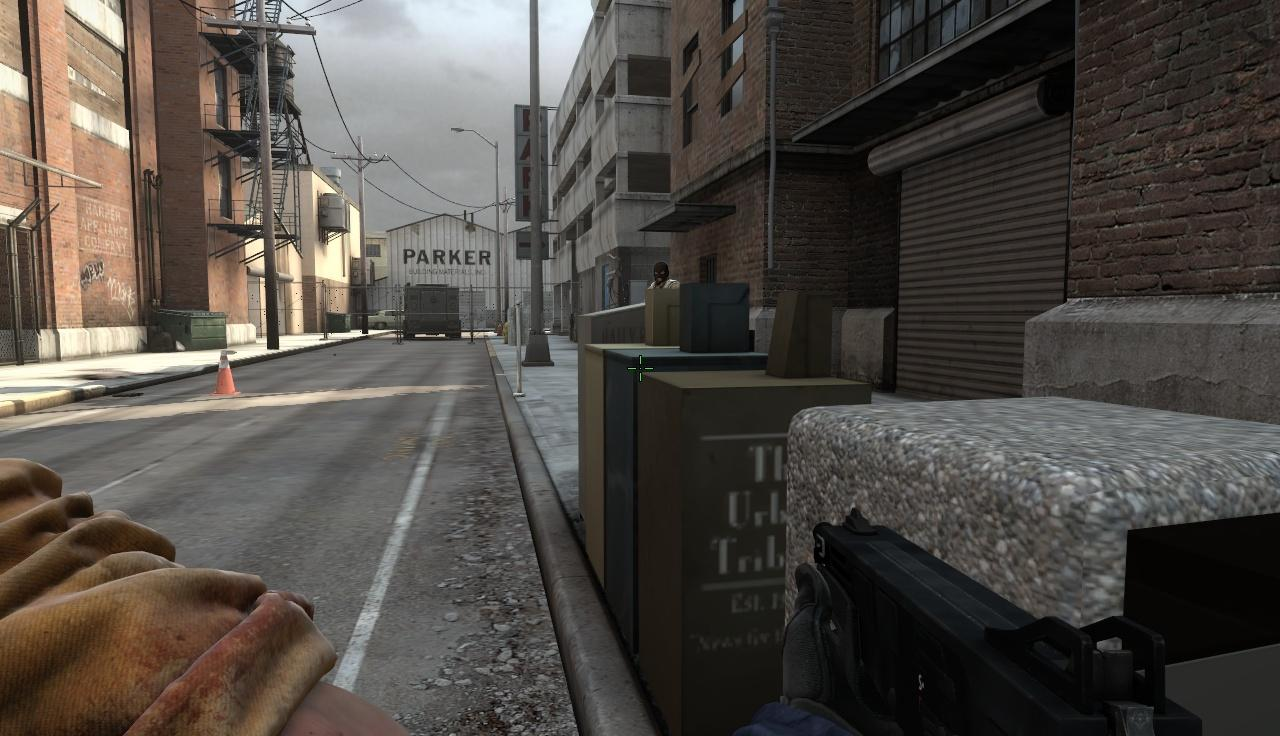shotgun: (792, 508, 1189, 736)
tthead: (653, 263, 668, 284)
